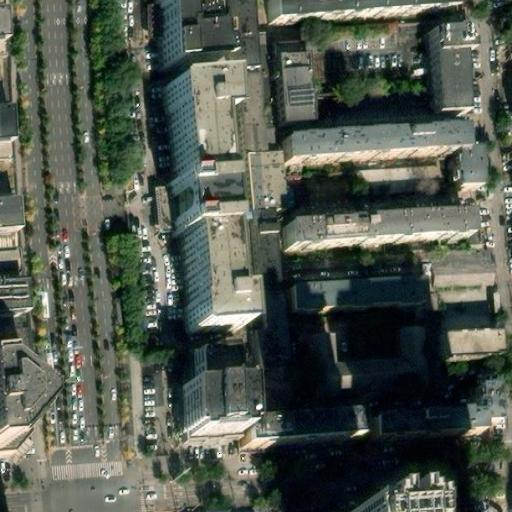building: (302, 330, 422, 402), (287, 216, 478, 261), (287, 142, 471, 179), (179, 224, 237, 341), (170, 85, 225, 182), (287, 273, 418, 306), (365, 408, 498, 440), (248, 411, 367, 444), (172, 382, 233, 434), (158, 0, 219, 50), (432, 36, 470, 112), (246, 299, 283, 374), (247, 150, 288, 212), (427, 254, 496, 288), (250, 223, 280, 300), (239, 69, 266, 153), (278, 67, 312, 127), (0, 382, 28, 450), (441, 344, 498, 371), (178, 192, 223, 226), (187, 355, 231, 384), (454, 169, 482, 205), (0, 195, 24, 236), (420, 294, 437, 339), (473, 379, 492, 409), (0, 107, 14, 146)
